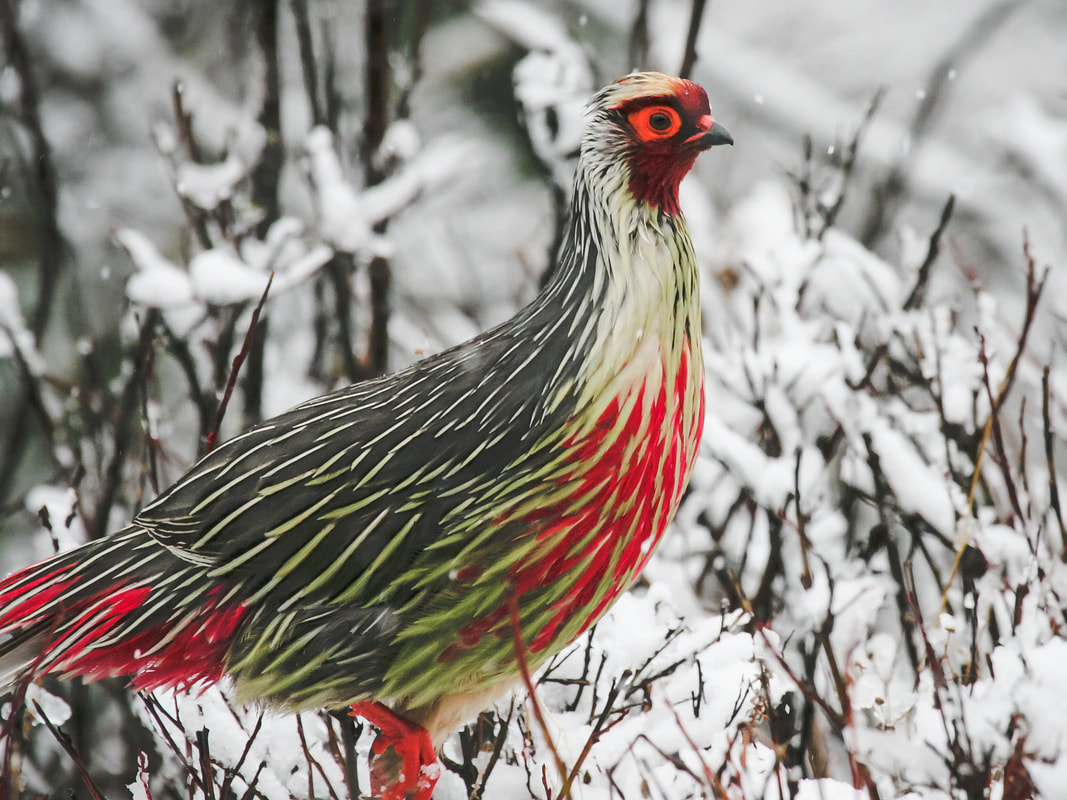bird: (1, 68, 738, 798)
